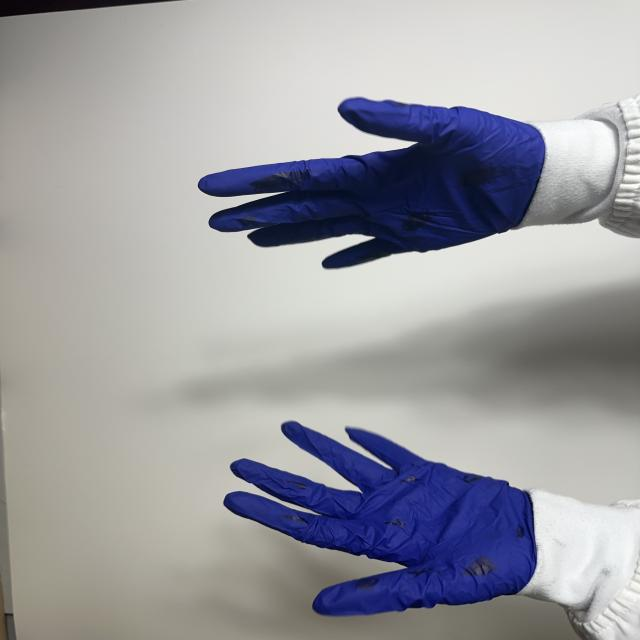gloves_contaminated: (224, 422, 536, 615), (199, 99, 546, 268)
